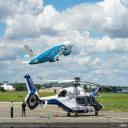helicopter: (22, 70, 116, 120)
